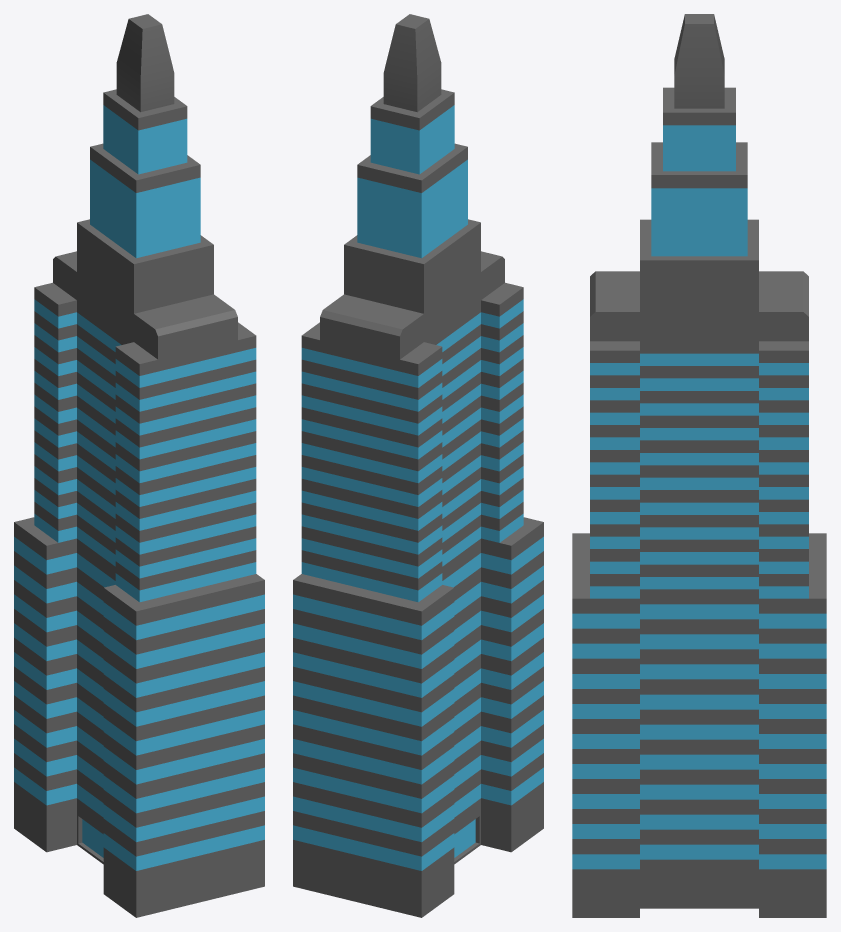
The model's file is Skyscraper_08.fbx.
The picture shows the model from 3 angles, left to right: view 1: azimuth 30°, elevation 25°; view 2: azimuth 150°, elevation 25°; view 3: azimuth 270°, elevation 25°; orthographic projection. The views are drawn at different scales.
Visible parts, largest first — view 1: Skyscraper_08; view 2: Skyscraper_08; view 3: Skyscraper_08.
Part boxes in pixels (x1,y1,x2,y2): Skyscraper_08: (14,14,264,917); Skyscraper_08: (293,14,543,917); Skyscraper_08: (572,14,826,917).
Size of the model in its own units: 26.91 by 167 by 44.21.
